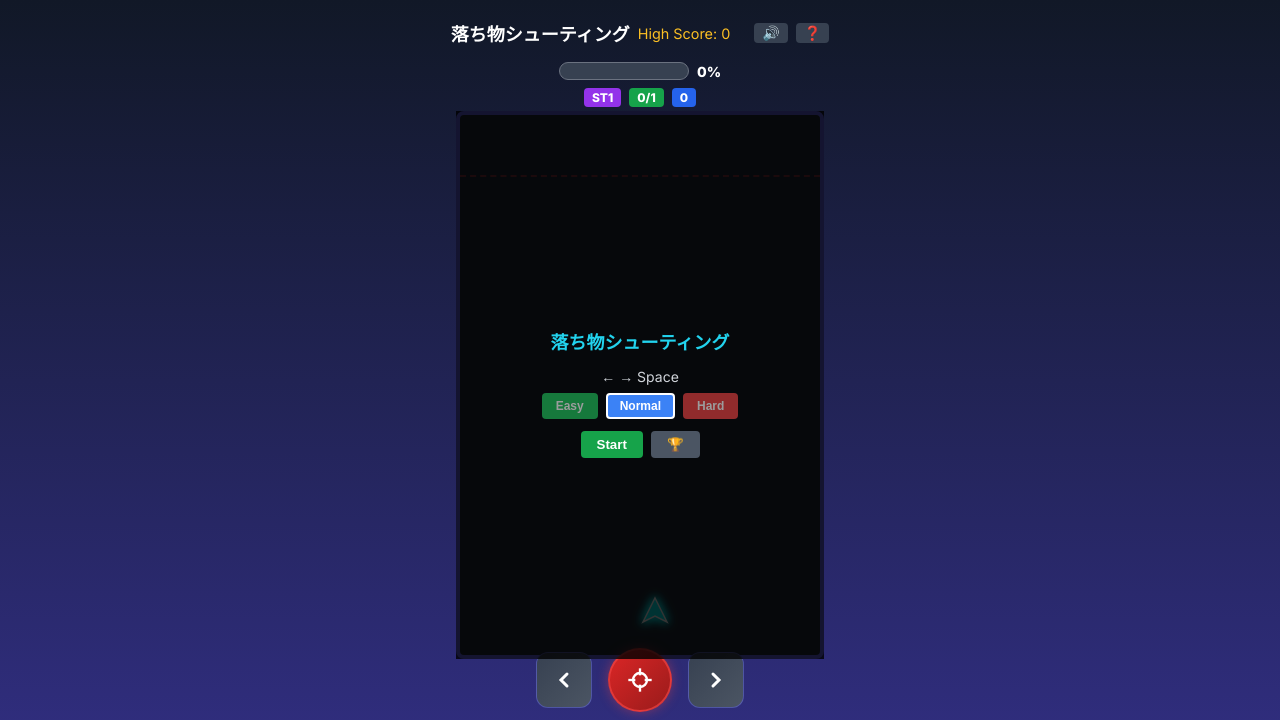
it: FallingShooterPage › スタートボタンをクリックするとゲームが開始すること
Click the button "Start": x=612, y=444 [580, 431, 643, 458]
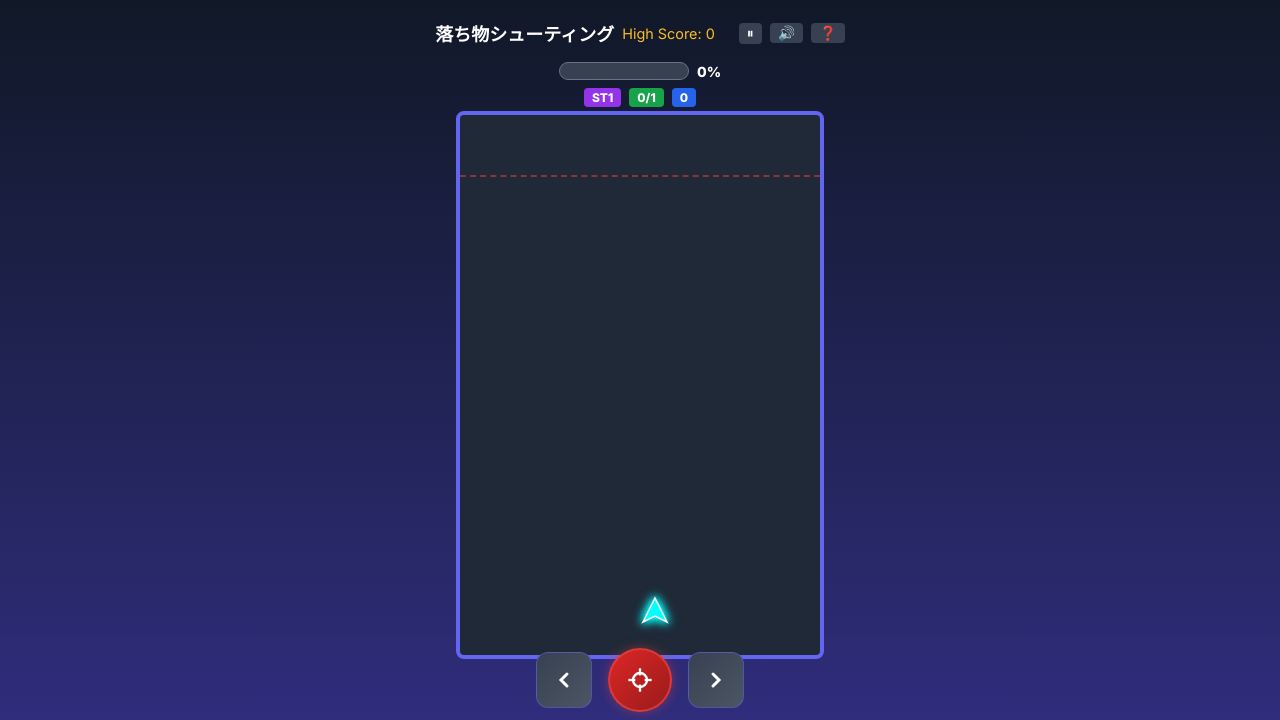
Result: the button "Start" is gone
